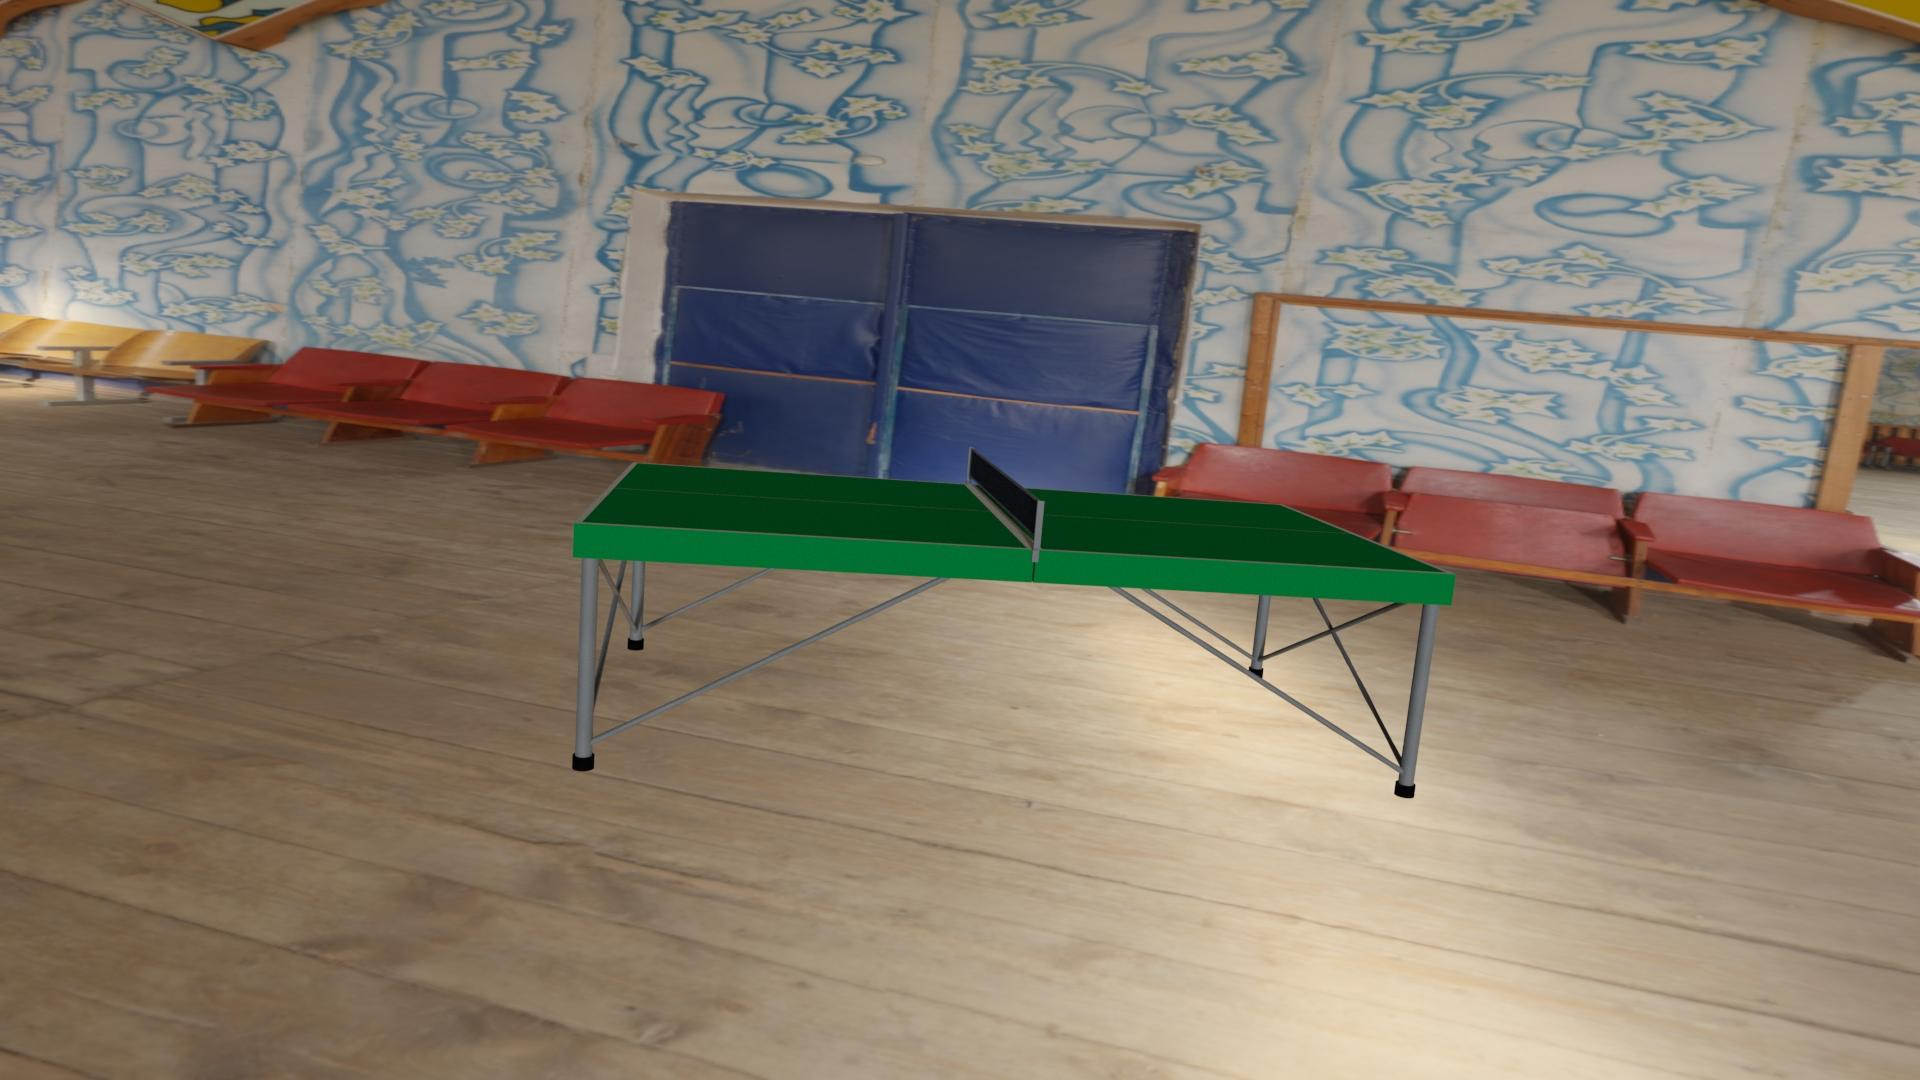table: (582, 463, 1447, 572)
